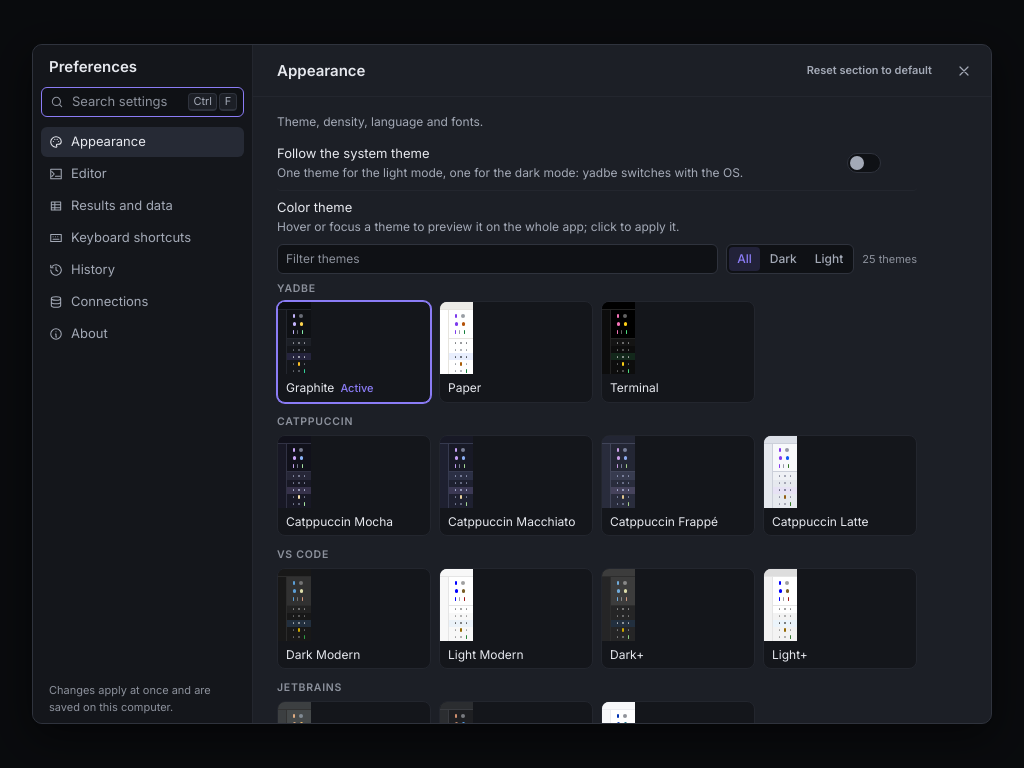
Scenario: the preferences screen › says that the production guard cannot be turned off
Click the button "Editor": click(142, 174) [41,158,244,188]
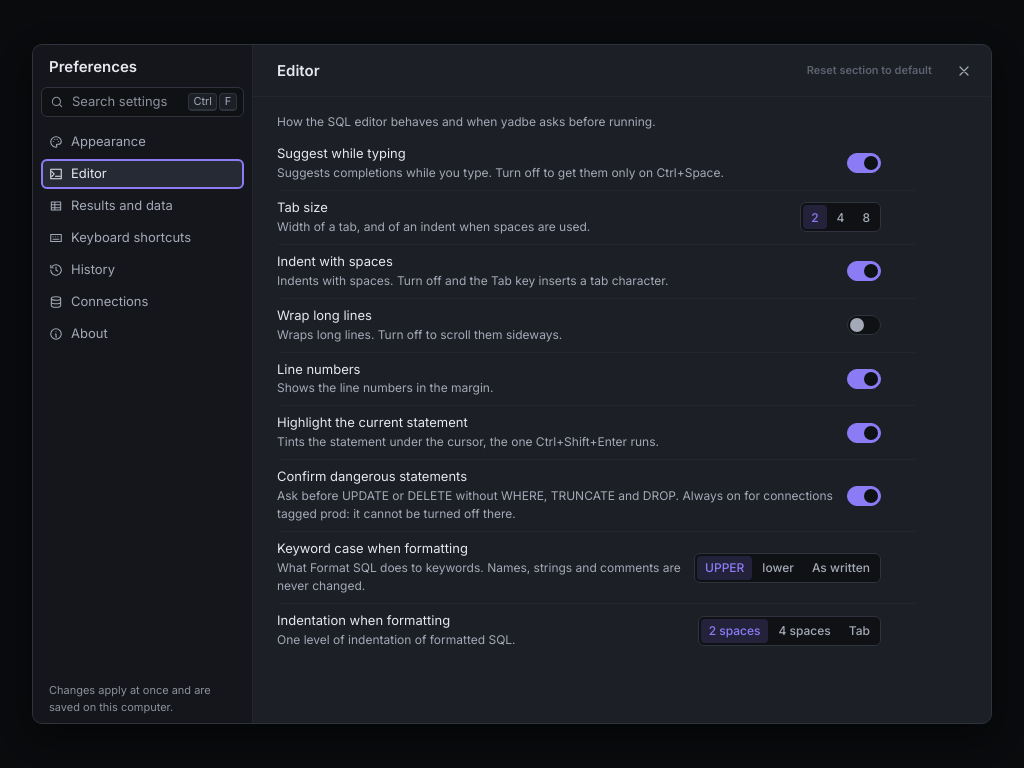
Check: the text "Always on for connections tagged prod" is shown, box [277,488,833,521]
